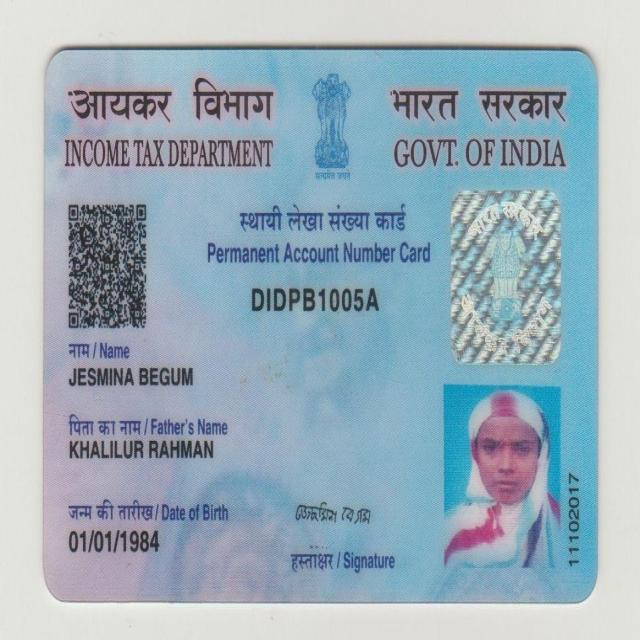pan_card: (50, 57, 590, 592)
